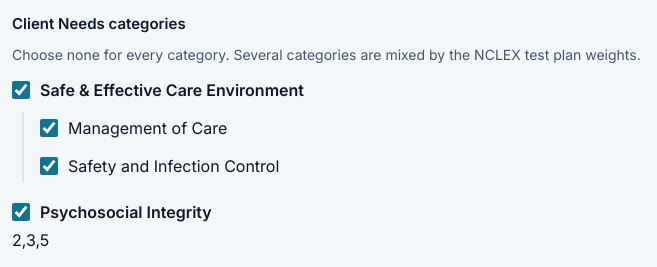
CategoryTree › clears every subcategory when a full category is unchecked
The width and height of the screenshot is (657, 267).
Click the checkbox labelled "Safe & Effective Care Environment". click: (21, 90)
box: [12,81,30,99]
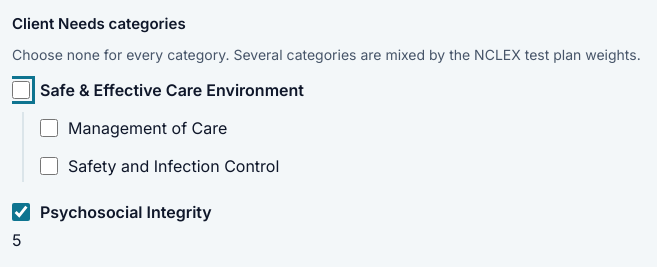
Result: the text with test id "value" reads "5" at [12,230,22,250]
